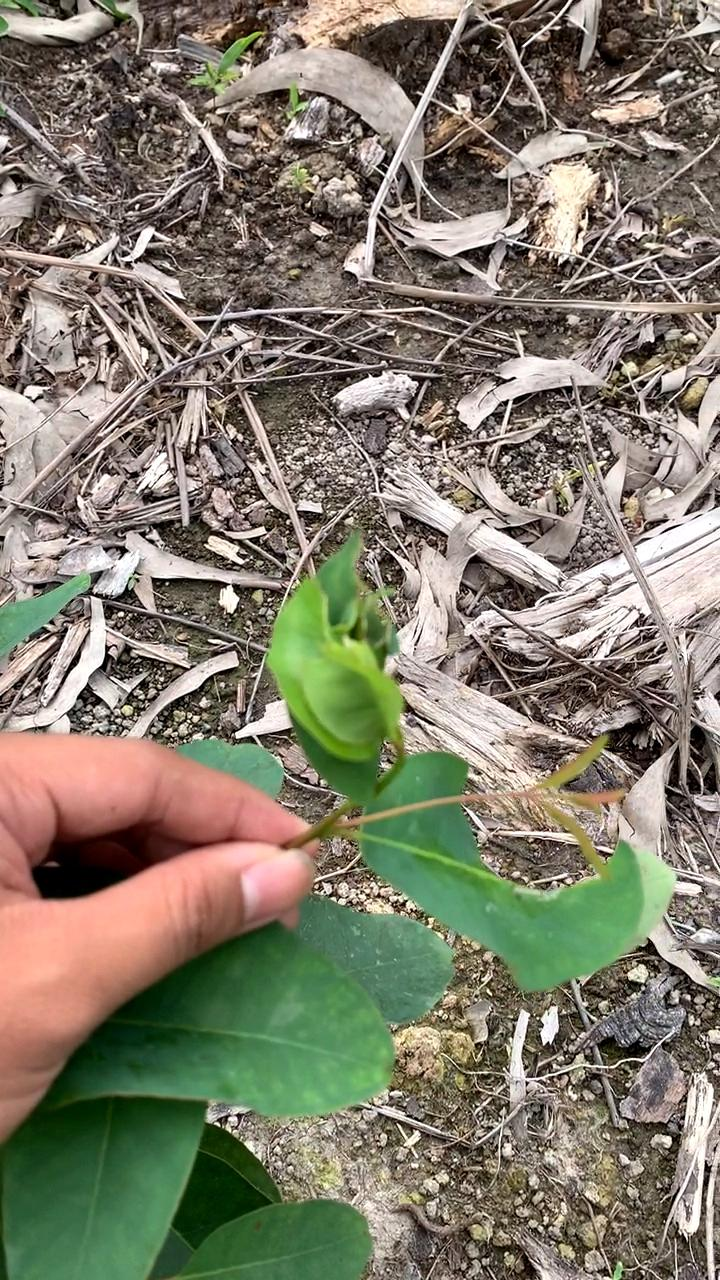Leaf Roller - Leaf: (258, 548, 405, 807)
